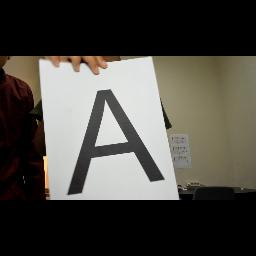a: (56, 80, 172, 200)
